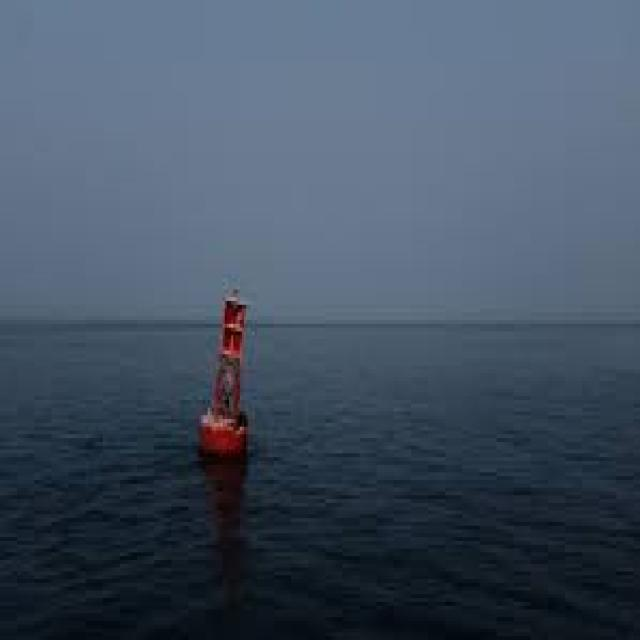buoy: (194, 274, 257, 458)
